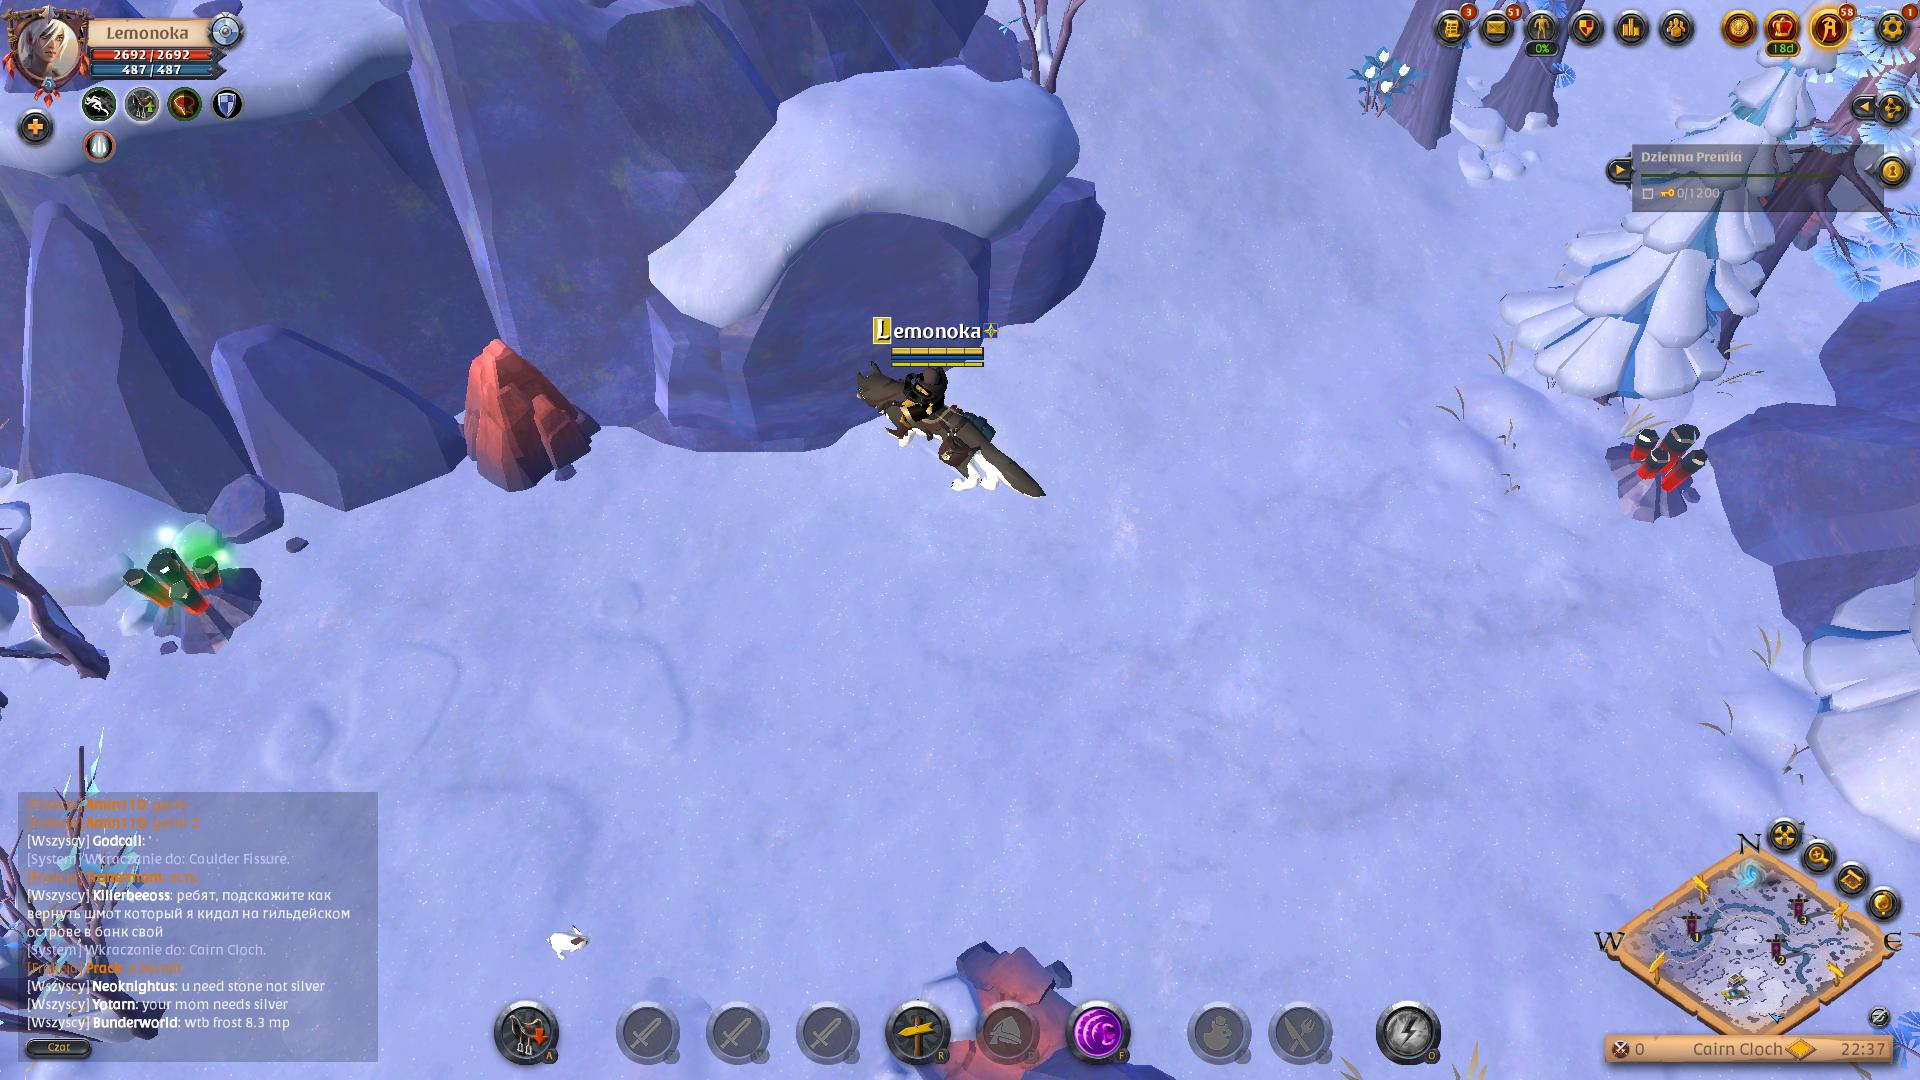fiber tier 4: (1344, 44, 1422, 121)
ore tier 5: (116, 542, 272, 657), (1602, 422, 1710, 526)
rock tier 5: (447, 330, 601, 495)
